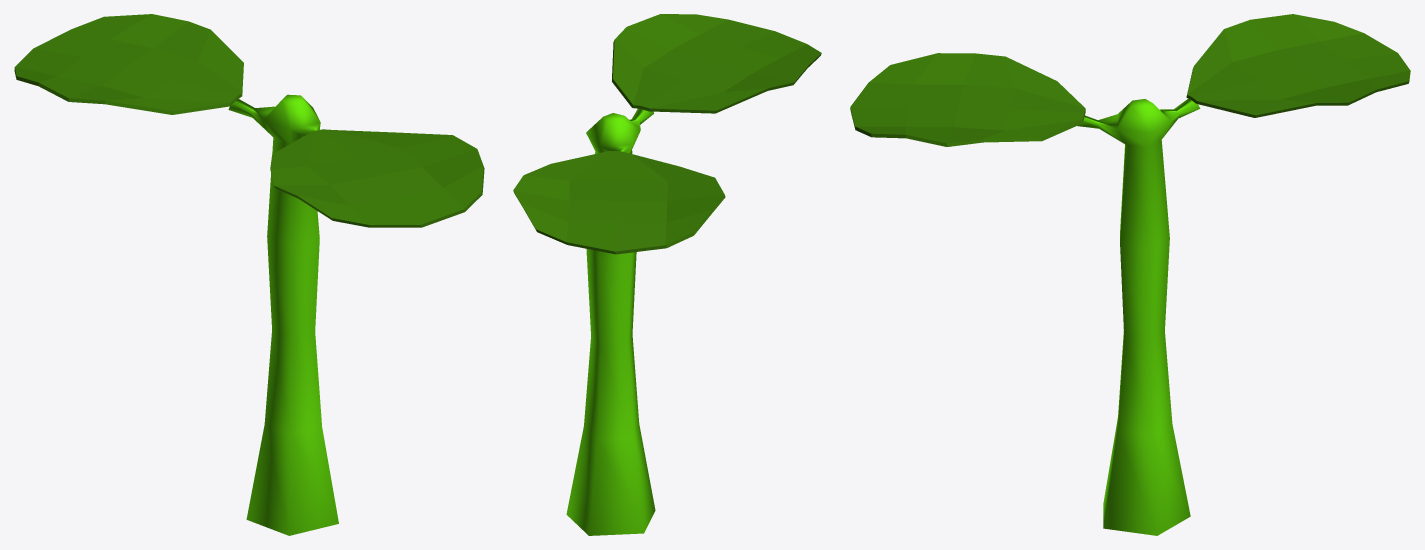
Rendered from Black Eyed Susan Germinating2.1.fbx.
The picture shows the model from 3 angles, left to right: view 1: azimuth 30°, elevation 25°; view 2: azimuth 150°, elevation 25°; view 3: azimuth 270°, elevation 25°; orthographic projection. The views are drawn at different scales.
Parts seen in each view (by area): view 1: Cylinder, Plane, Plane.001; view 2: Cylinder, Plane.001, Plane; view 3: Cylinder, Plane, Plane.001.
Part boxes in pixels (x1,y1,x2,y2): Cylinder: (228,94,338,535); Plane: (270,129,484,227); Plane.001: (14,14,243,114); Cylinder: (566,108,655,535); Plane.001: (513,151,725,254); Plane: (612,14,821,113); Cylinder: (1077,98,1200,535); Plane: (850,53,1085,146); Plane.001: (1186,14,1410,117).
Bounding box in the file's own units: 62.08 × 93.65 × 114.
